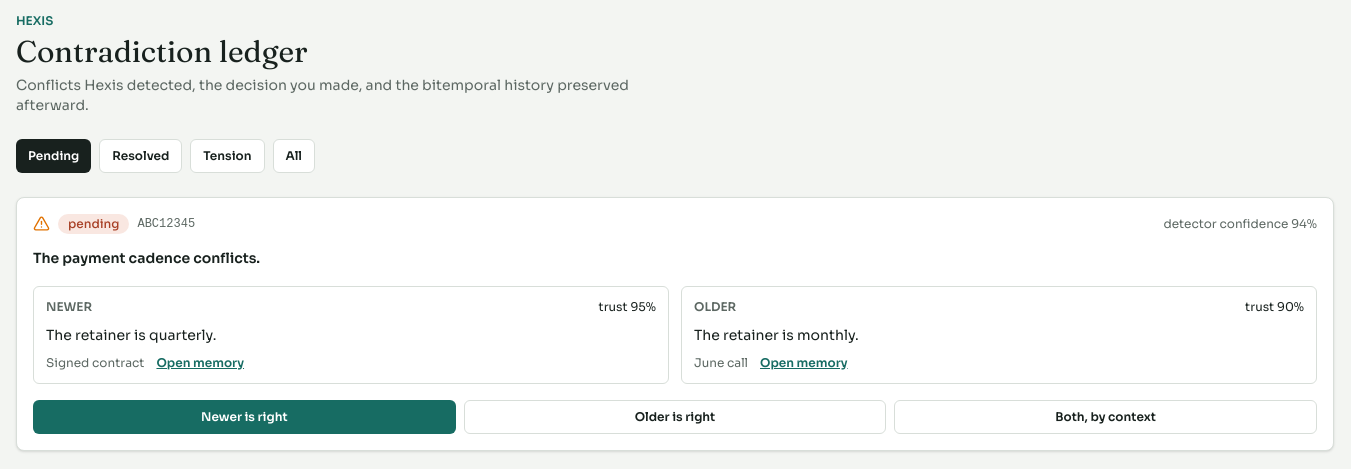
it: contradiction ledger › shows evidence and changes nothing until the operator chooses
The width and height of the screenshot is (1351, 469).
Expected: the text "The payment cadence conflicts." is shown, [33,248,260,266]
Expected: the text "The retainer is quarterly." is shown, [46,326,216,344]
Click the button "Newer is right": (244, 416) [33,400,456,434]
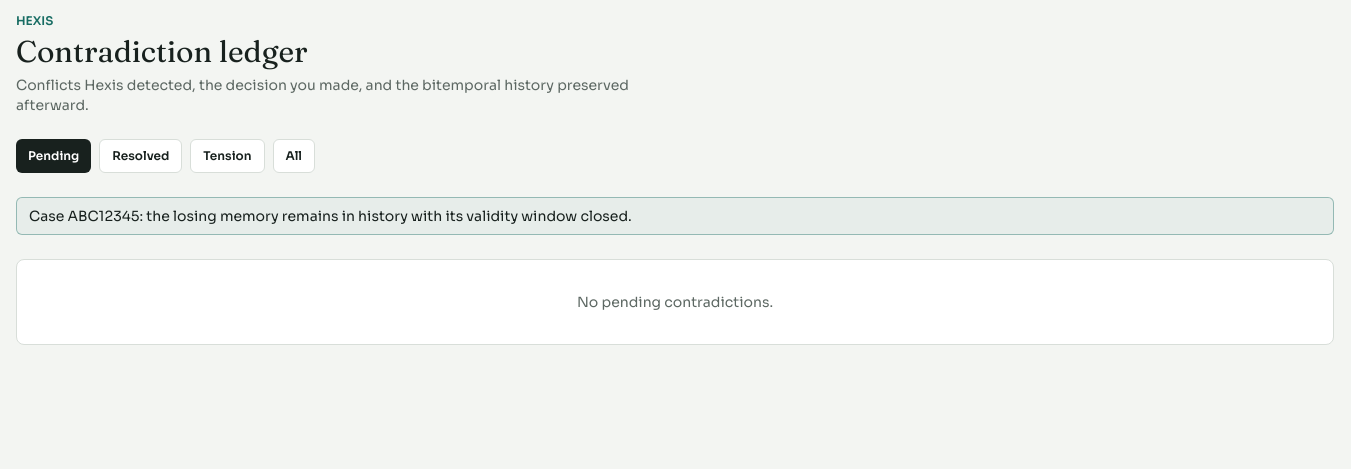
Result: the text "losing memory remains in history" is shown at [29,206,632,224]
